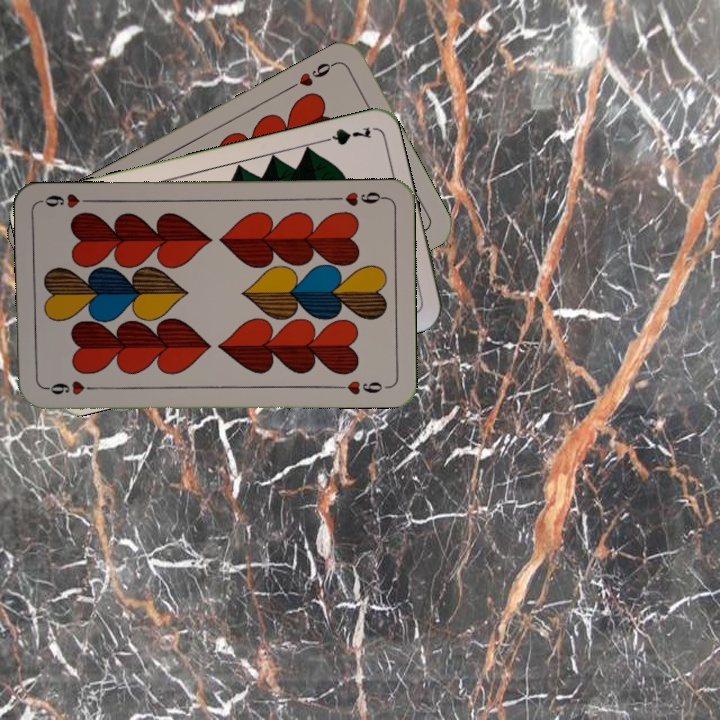G7: (315, 123, 374, 148)
H9: (284, 58, 339, 93), (329, 187, 388, 208), (41, 377, 100, 397)
